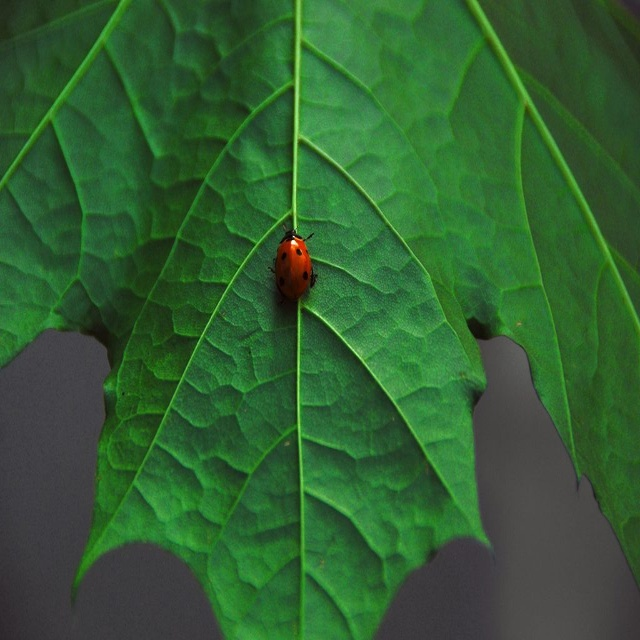Ladybug: (272, 221, 320, 296)
